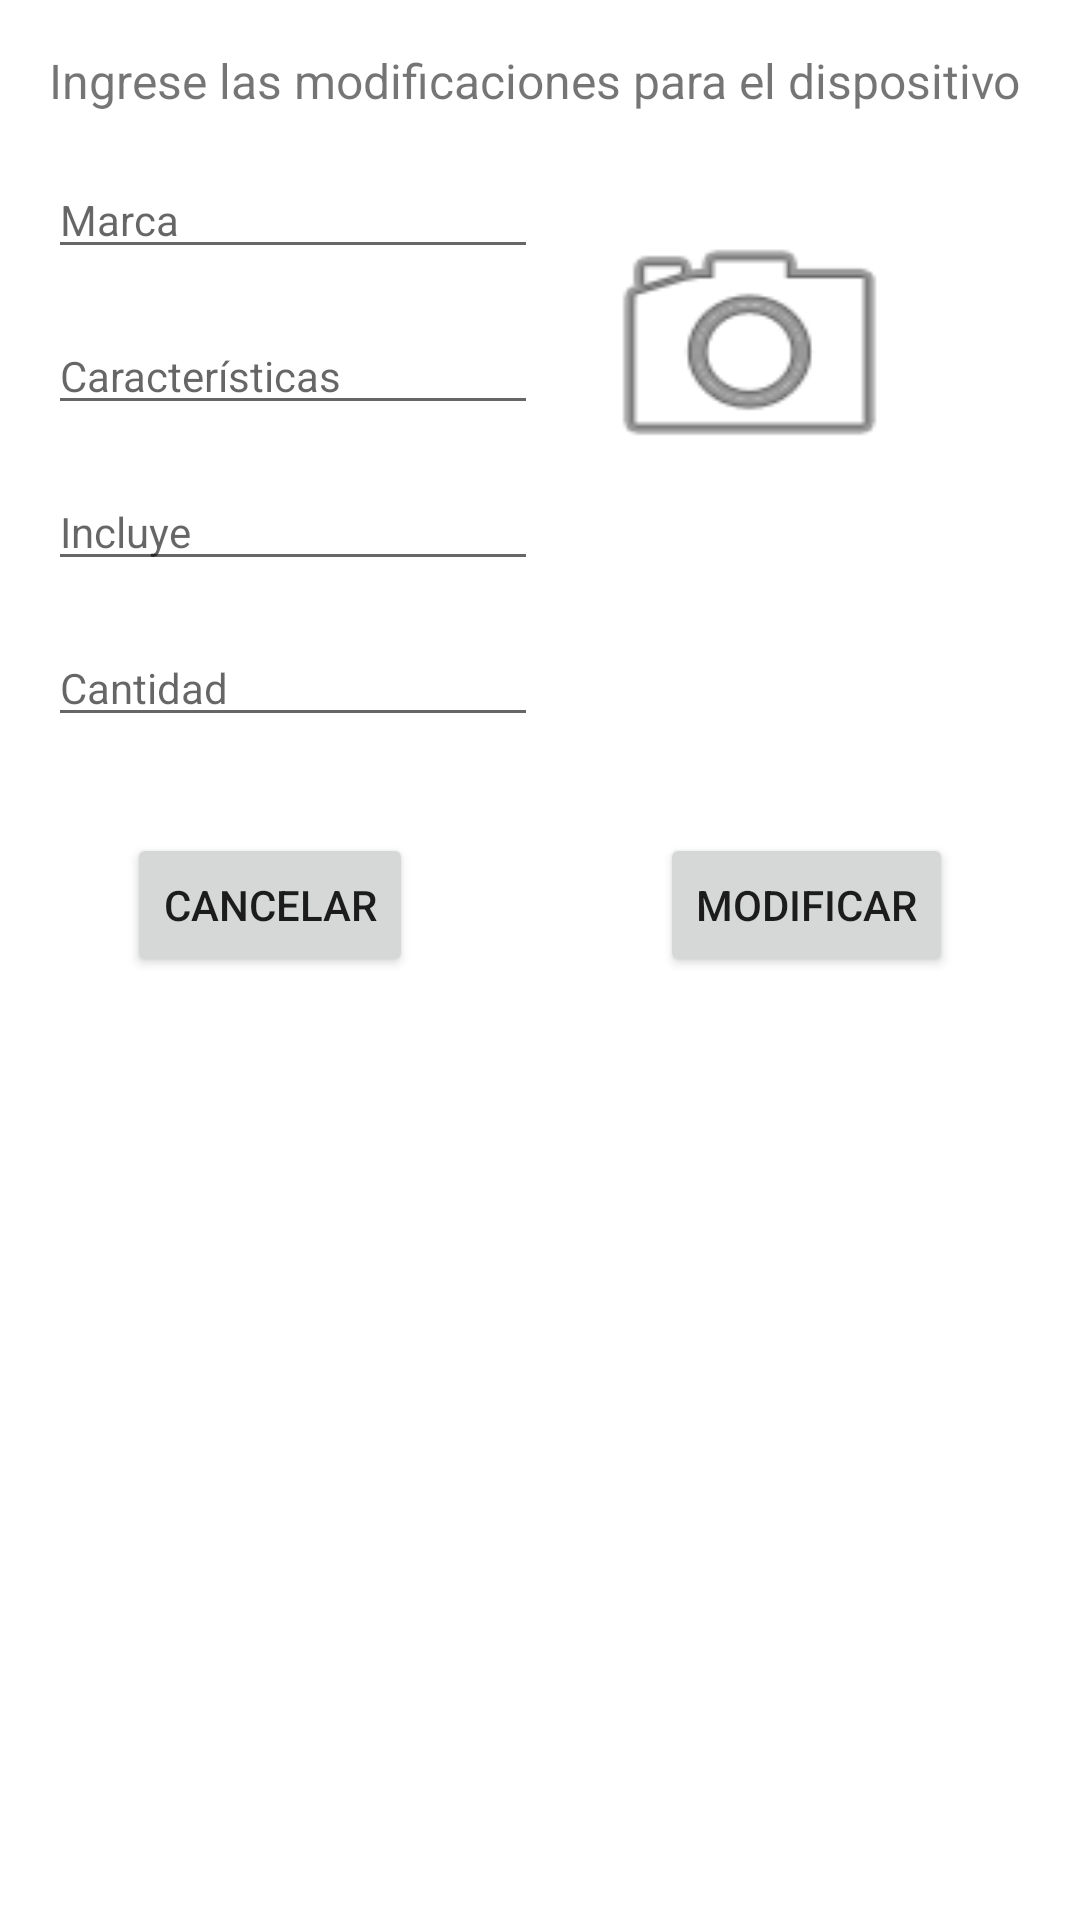

Named icons in this screenshot (1080×1920) and their bounding boxes, box=[x1, y1, x2, y2]:
camera: box=[623, 250, 876, 435]
